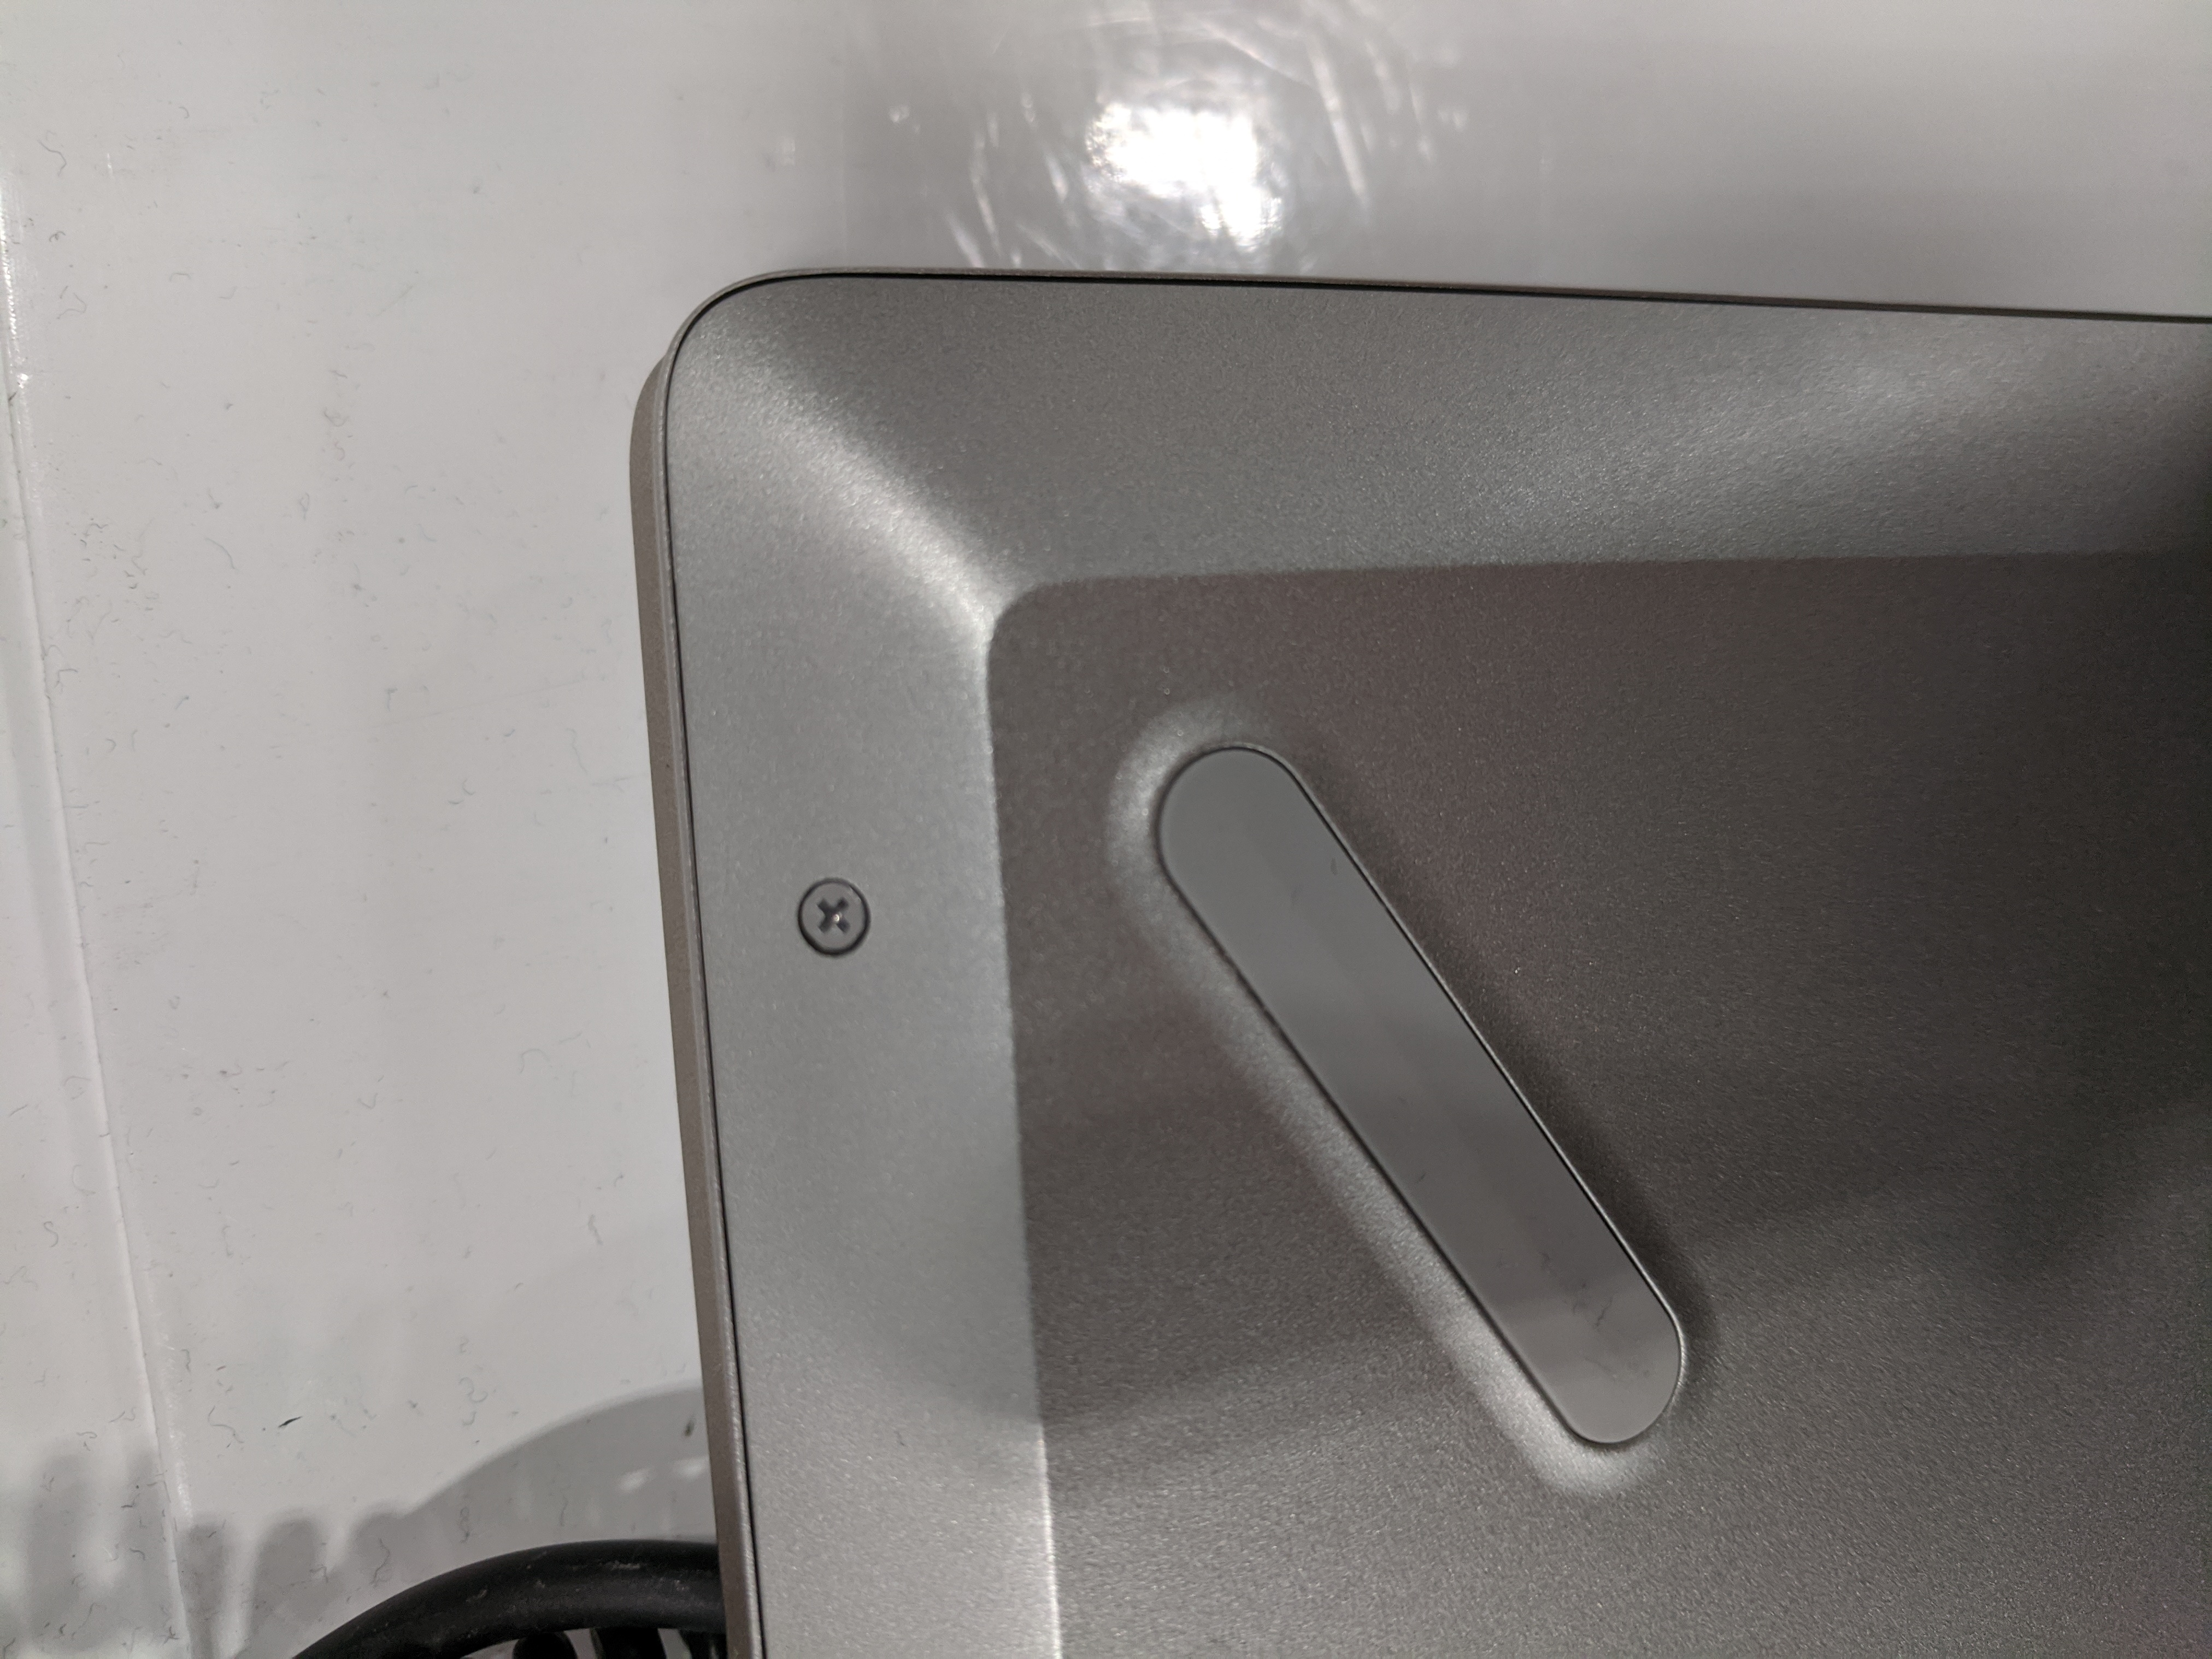cross_recessed_screw: (791, 871, 873, 955)
